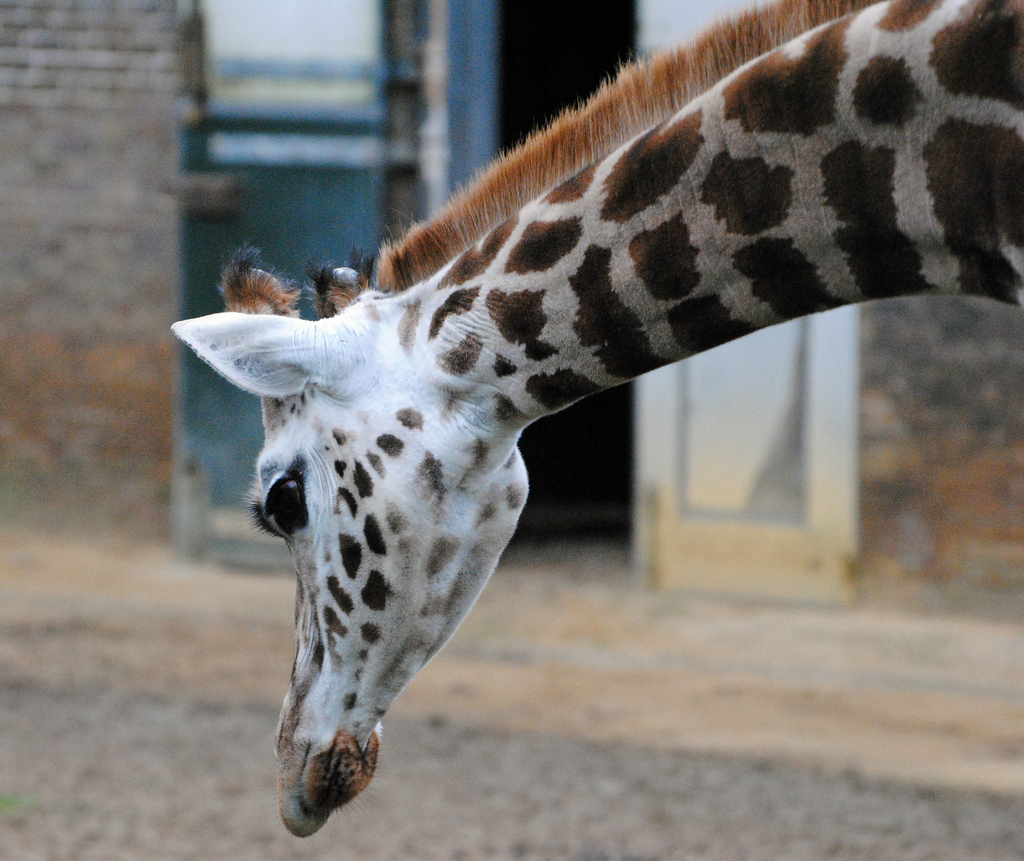giraffe: (220, 19, 1001, 823)
